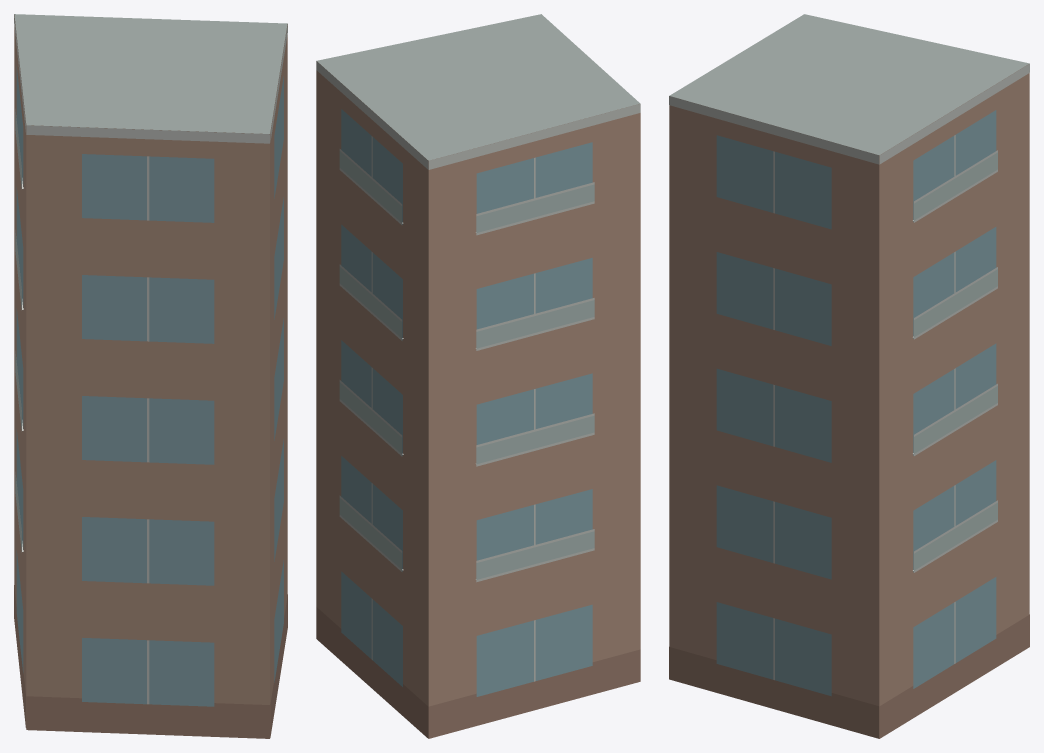
The model's file is survey-upis-32584972.glb.
3 renders of one model, left to right at view 1: azimuth 30°, elevation 25°; view 2: azimuth 150°, elevation 25°; view 3: azimuth 270°, elevation 25°, orthographic. The views are drawn at different scales.
Visible parts, largest first — view 1: survey-upis-32584972.tmp; view 2: survey-upis-32584972.tmp; view 3: survey-upis-32584972.tmp.
Boxes of the visible parts, x1,y1,x2,y2 form: survey-upis-32584972.tmp: (14, 14, 287, 738); survey-upis-32584972.tmp: (316, 14, 640, 738); survey-upis-32584972.tmp: (669, 14, 1029, 738).
Size of the model in its own units: 7.93 by 15.25 by 8.55.
